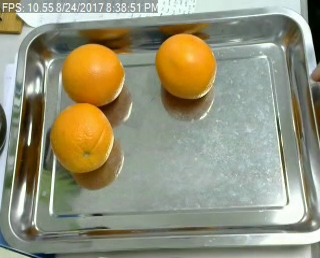Orange: (50, 103, 114, 172), (156, 33, 218, 100), (63, 43, 125, 106)
